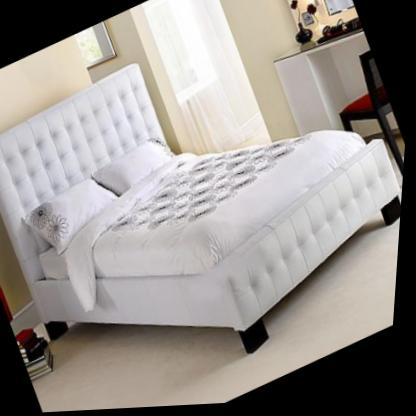Bed: (0, 0, 416, 416)
Chair: (316, 50, 412, 207)
